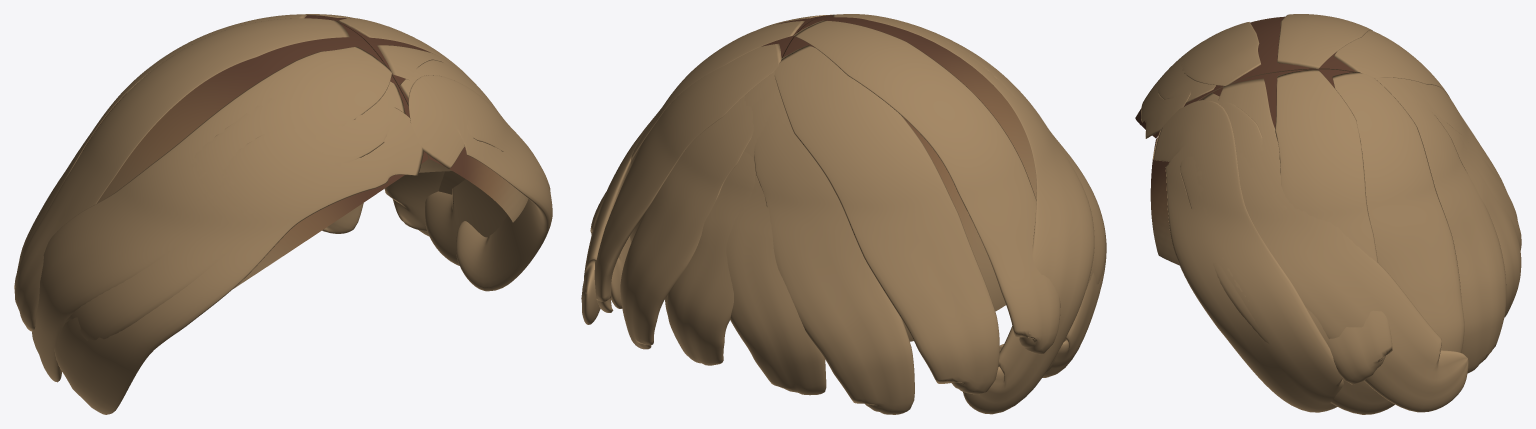
The model's file is Masculine-flow-cap260-hair-ombre.glb.
3 renders of one model, left to right at view 1: azimuth 30°, elevation 25°; view 2: azimuth 150°, elevation 25°; view 3: azimuth 270°, elevation 25°, orthographic. The views are drawn at different scales.
Parts seen in each view (by area): view 1: 226 hair / Hair260 / layered flow; view 2: 226 hair / Hair260 / layered flow; view 3: 226 hair / Hair260 / layered flow.
Boxes of the visible parts, x1,y1,x2,y2 form: 226 hair / Hair260 / layered flow: [14, 14, 552, 414]; 226 hair / Hair260 / layered flow: [581, 14, 1106, 414]; 226 hair / Hair260 / layered flow: [1135, 14, 1521, 414].
Size of the model in its own units: 1.1 by 0.7109 by 0.8307.
